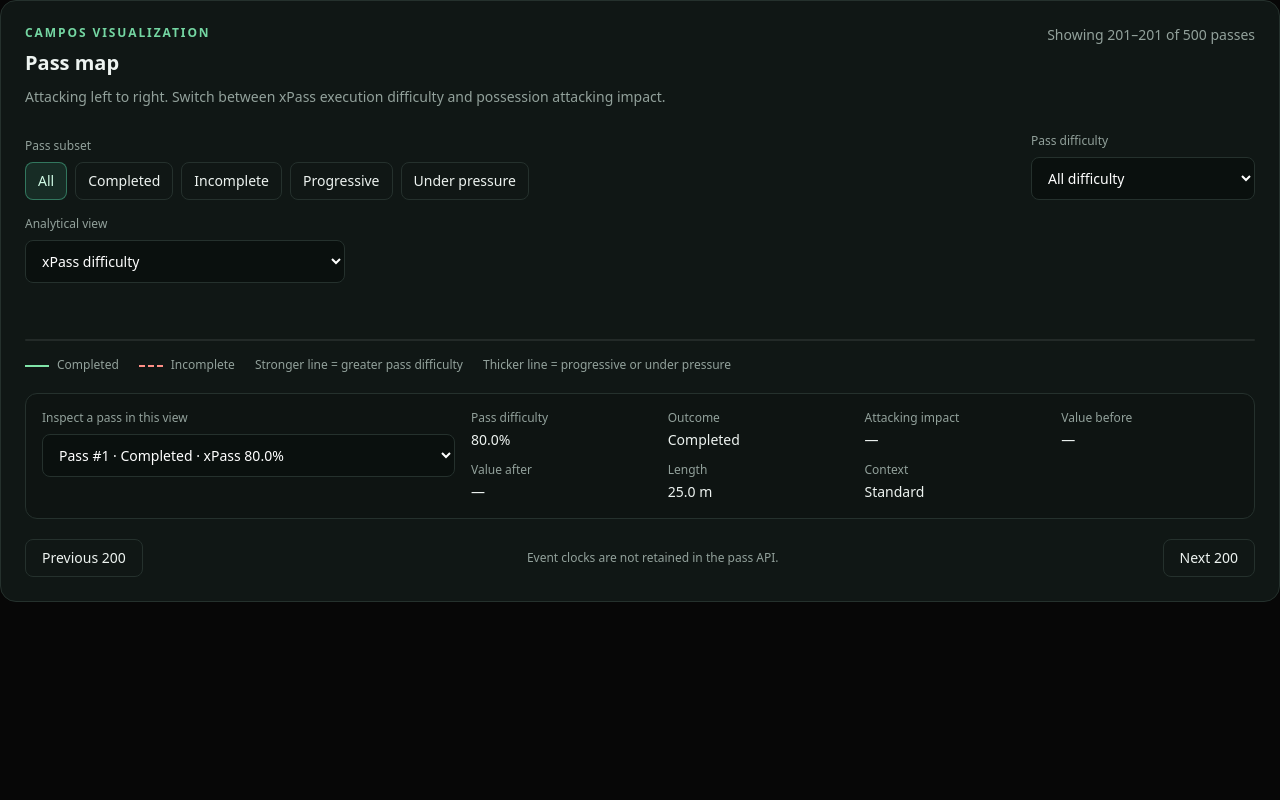
Test case: FootyScoutPassMap interactions › combines subset and difficulty and resets the offset
This screenshot has width=1280, height=800.
Click the button "Progressive" at point(341, 181), box [290,162,392,200]
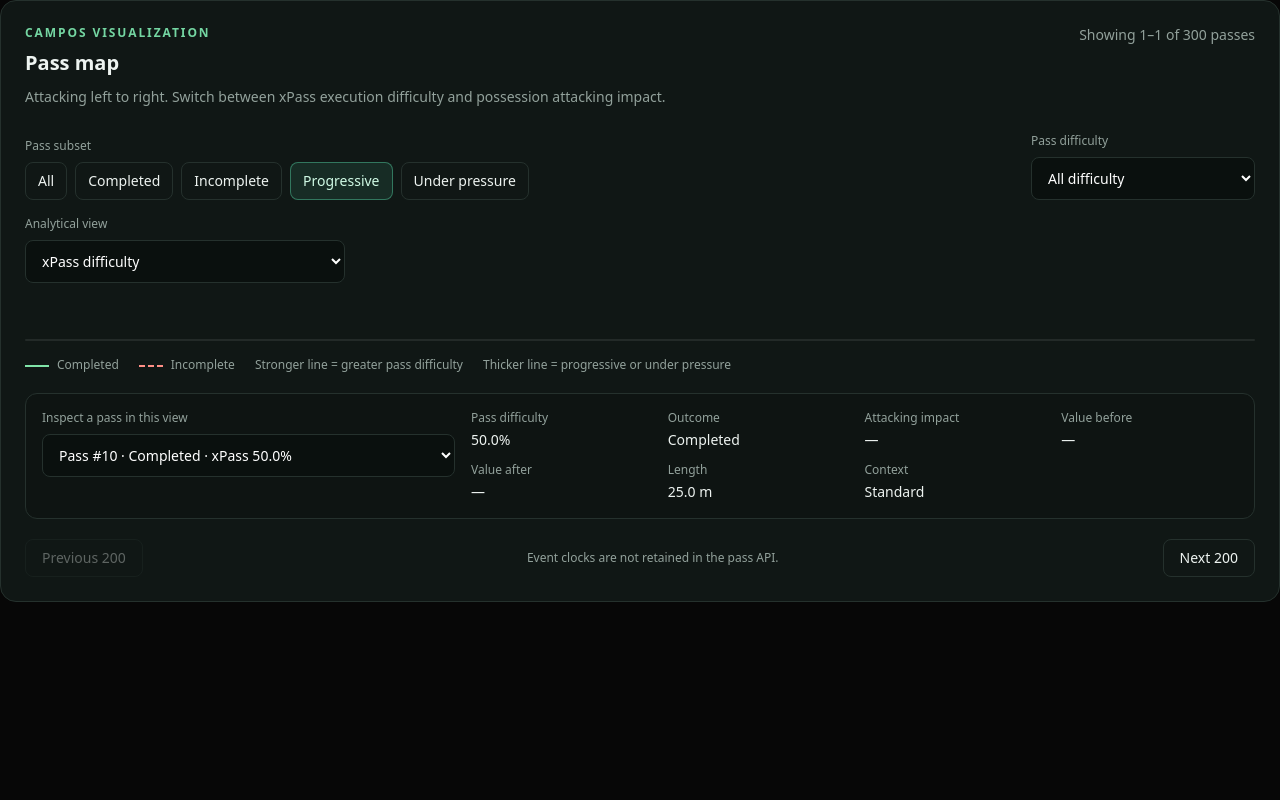
Select "Difficult (< 60%)" in the dropdown labelled "Pass difficulty" at point(1143, 178), box [1031,157,1255,200]
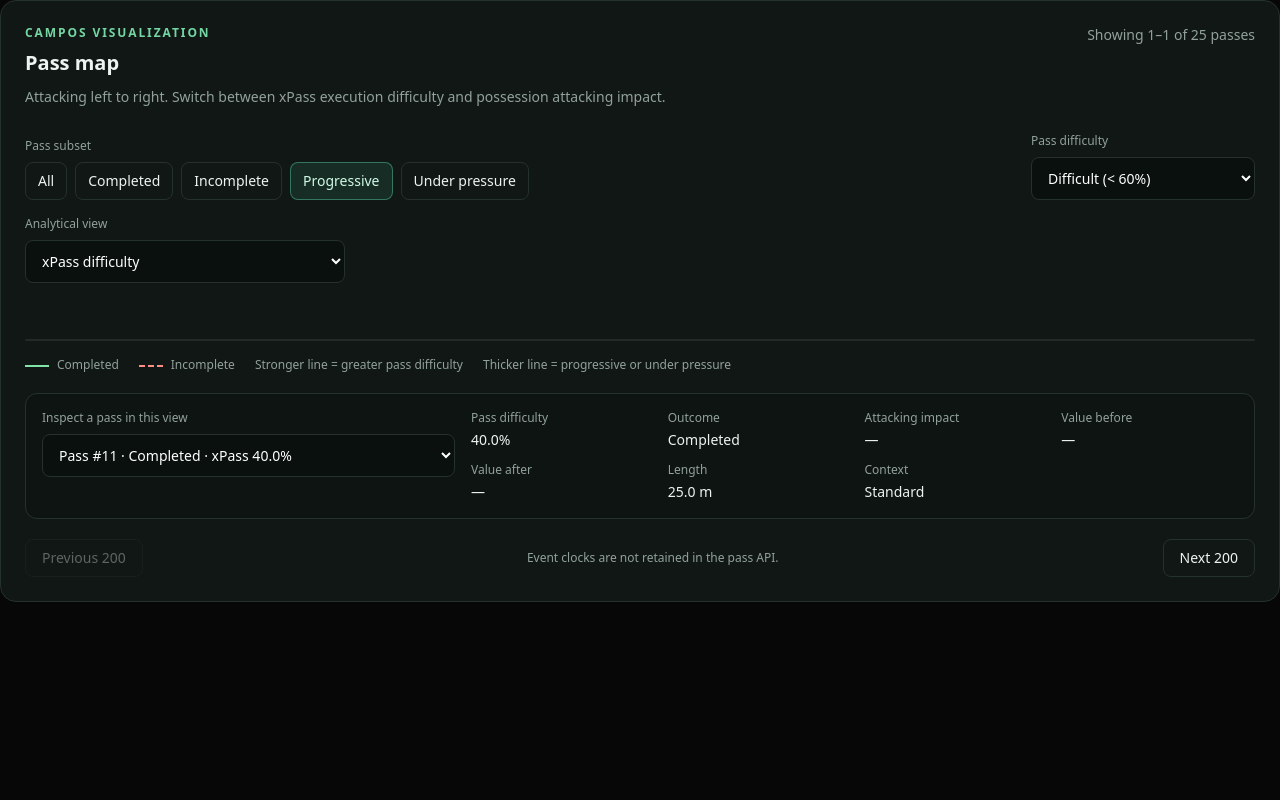
Expected: the text "Showing 1–1 of 25 passes" is shown, [1087,25,1255,45]
